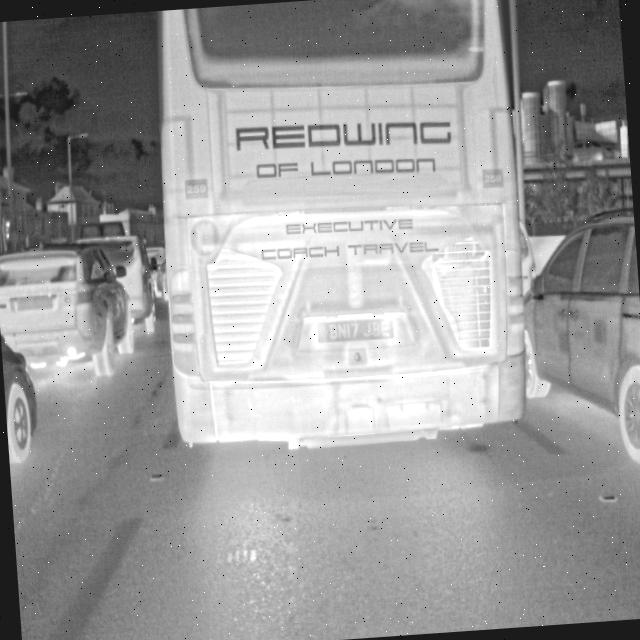Vehicle: (141, 0, 547, 462), (515, 204, 640, 473), (0, 237, 137, 384)
